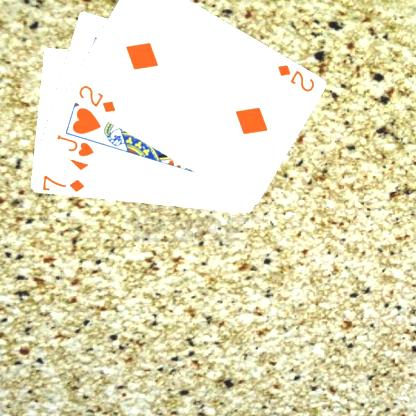2D: (75, 82, 117, 114), (274, 62, 316, 94)
7D: (40, 172, 86, 193)
JH: (53, 132, 95, 158)
